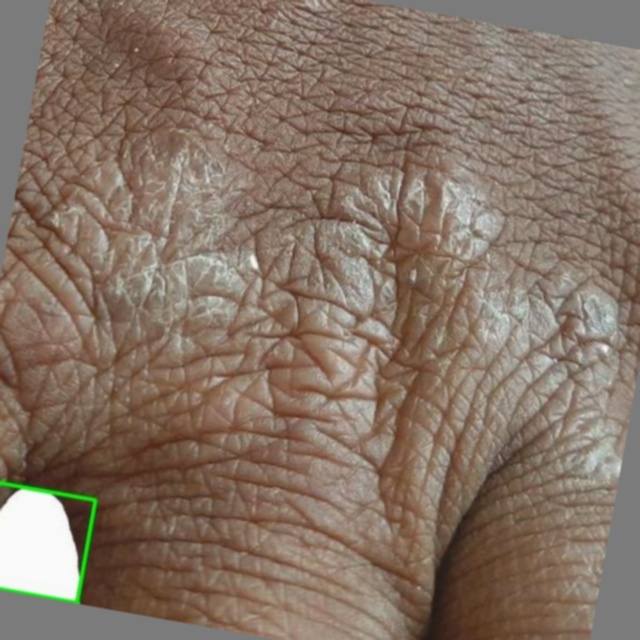Contact Dermatitis: (0, 483, 96, 603)
